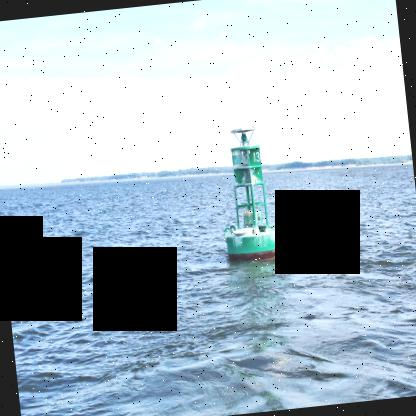Buoy: (214, 139, 289, 266)
